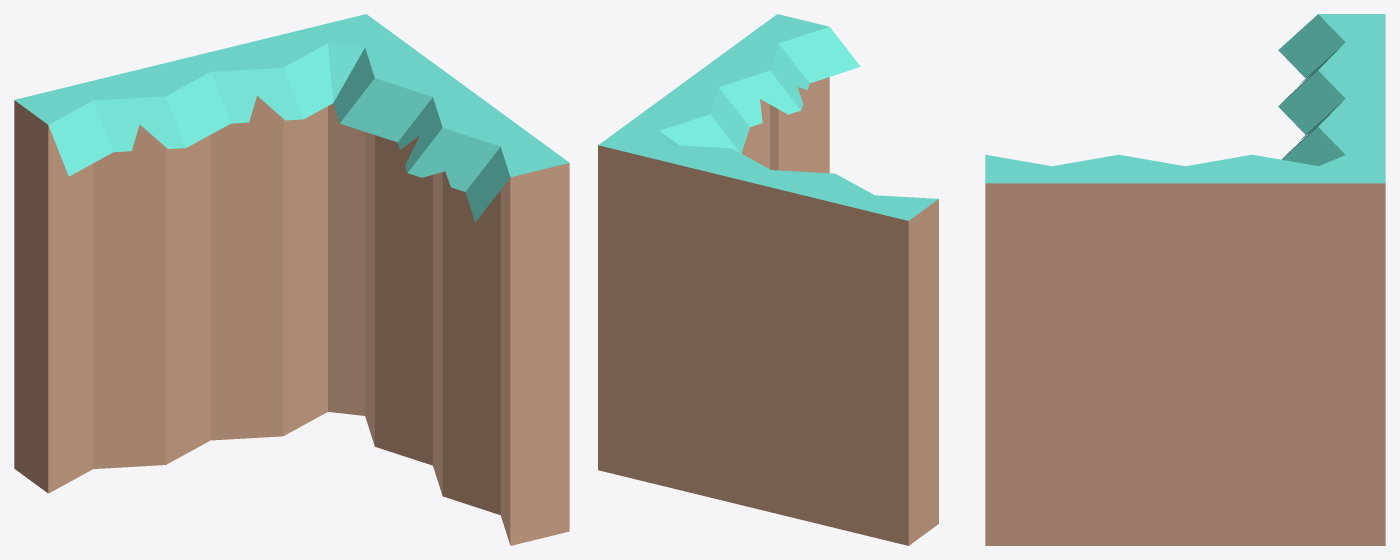
3 renders of one model, left to right at view 1: azimuth 30°, elevation 25°; view 2: azimuth 150°, elevation 25°; view 3: azimuth 270°, elevation 25°, orthographic. The views are drawn at different scales.
Visible parts, largest first — view 1: cliff_cornerInnerTop_rock; view 2: cliff_cornerInnerTop_rock; view 3: cliff_cornerInnerTop_rock.
Part boxes in pixels (x1=…): cliff_cornerInnerTop_rock: x1=14, y1=14, x2=569, y2=545; cliff_cornerInnerTop_rock: x1=598, y1=14, x2=938, y2=545; cliff_cornerInnerTop_rock: x1=985, y1=14, x2=1385, y2=545.
Bounding box in the file's own units: 1 × 1 × 1.
